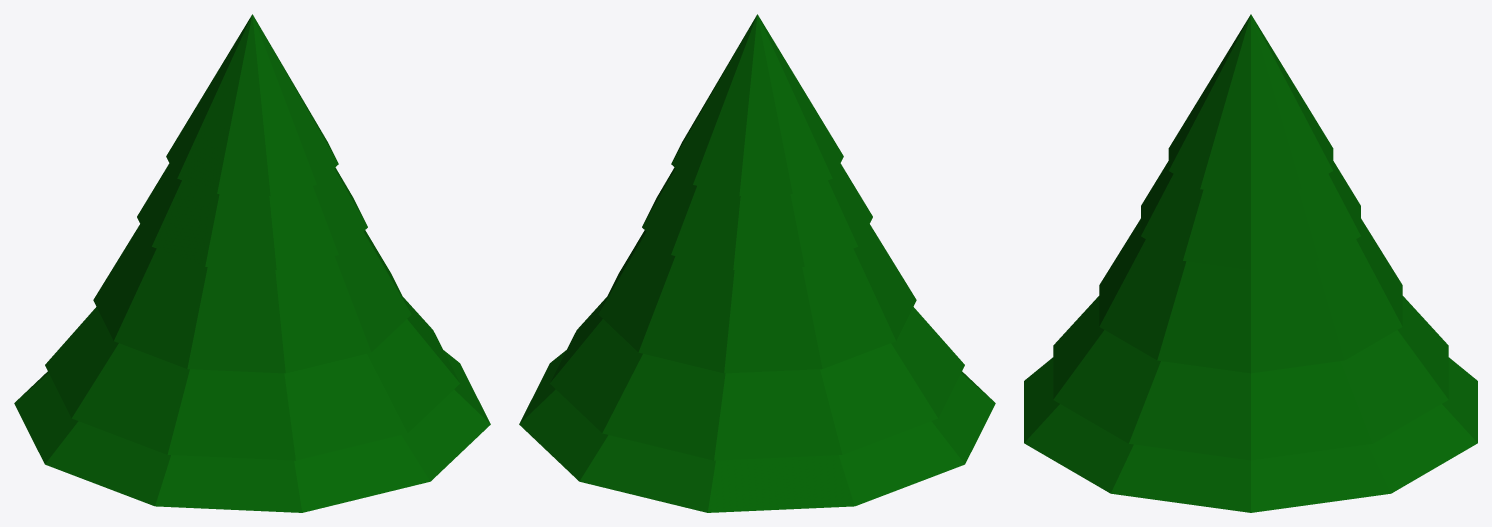
The model's file is ARBRE_03.fbx.
3 renders of one model, left to right at view 1: azimuth 30°, elevation 25°; view 2: azimuth 150°, elevation 25°; view 3: azimuth 270°, elevation 25°, orthographic.
Parts seen in each view (by area): view 1: ARBRE_03; view 2: ARBRE_03; view 3: ARBRE_03.
Boxes of the visible parts, x1,y1,x2,y2 form: ARBRE_03: (14,14,490,512); ARBRE_03: (519,14,995,512); ARBRE_03: (1024,14,1477,512).
Bounding box in the file's own units: 11.14 × 12.22 × 10.59.
